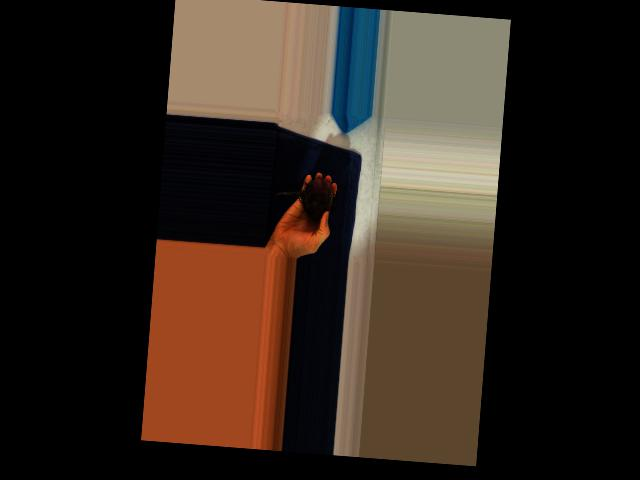beet: (272, 174, 339, 219)
